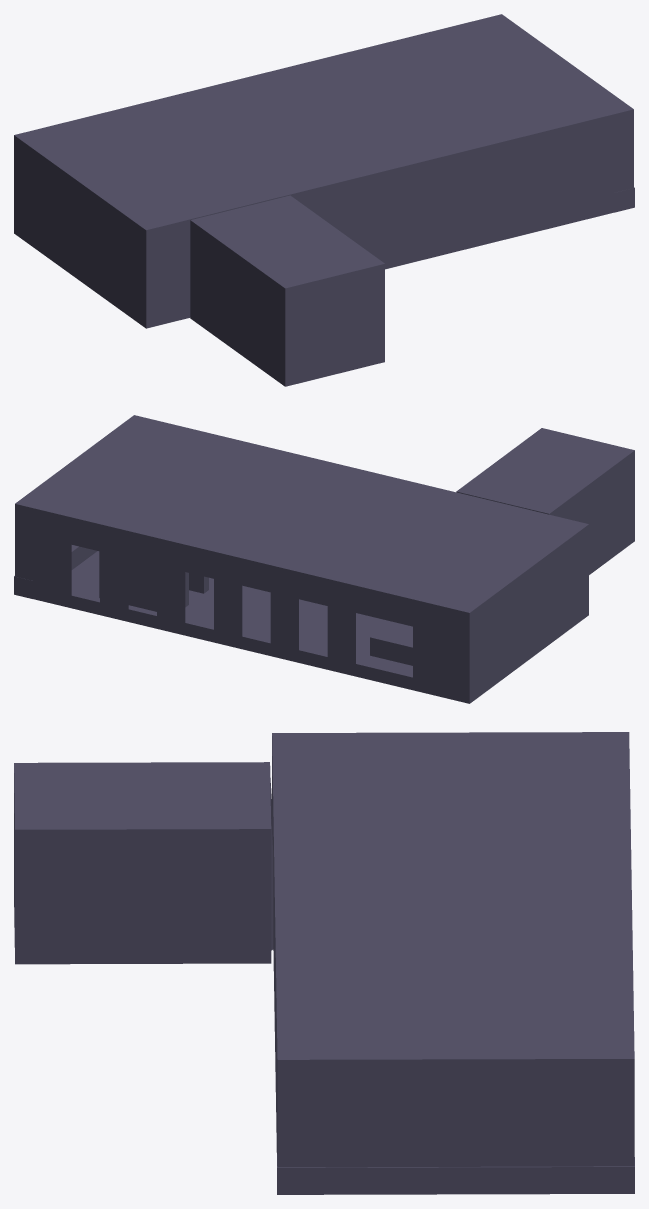
File: room.gltf
The picture shows the model from 3 angles, top to bottom: view 1: azimuth 30°, elevation 25°; view 2: azimuth 150°, elevation 25°; view 3: azimuth 270°, elevation 25°; orthographic projection. The views are drawn at different scales.
Parts seen in each view (by area): view 1: labRoom; view 2: labRoom; view 3: labRoom.
Part boxes in pixels (x1=…): labRoom: x1=14, y1=14, x2=634, y2=386; labRoom: x1=14, y1=415, x2=634, y2=703; labRoom: x1=14, y1=732, x2=634, y2=1194.
Size of the model in its own units: 26.04 by 4.97 by 20.81.
